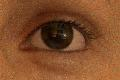eye: (42, 22, 73, 49)
